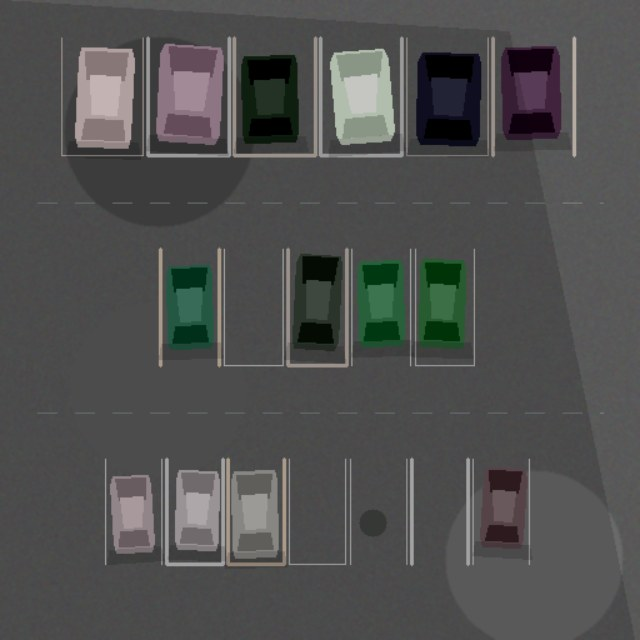space-empty: (224, 249, 283, 365), (289, 459, 345, 564), (350, 459, 406, 564), (411, 459, 467, 564)
space-occupied: (61, 38, 143, 155), (147, 38, 229, 155), (234, 38, 315, 155), (320, 38, 401, 155), (406, 38, 487, 155), (493, 38, 574, 155), (160, 249, 219, 365), (287, 249, 346, 365), (351, 249, 410, 365), (415, 249, 474, 365), (166, 459, 223, 564), (227, 459, 284, 564), (105, 459, 161, 564), (473, 459, 529, 564)
